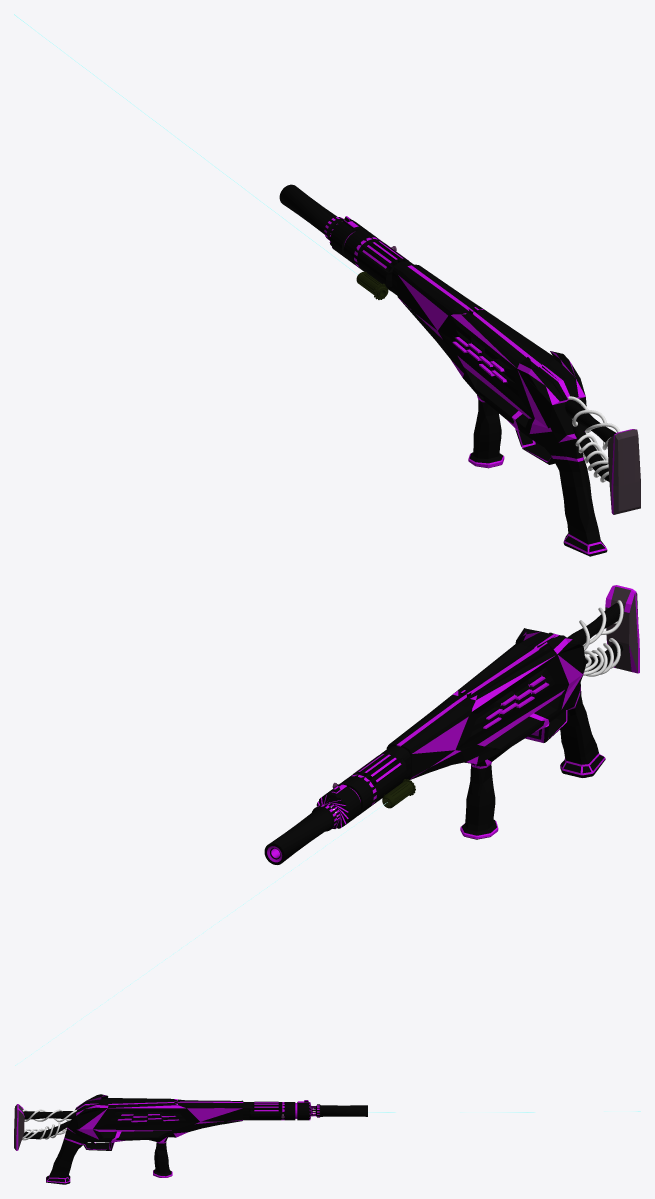
Rendered from PSTD2.fbx.
3 renders of one model, top to bottom at view 1: azimuth 30°, elevation 25°; view 2: azimuth 150°, elevation 25°; view 3: azimuth 270°, elevation 25°, orthographic. The views are drawn at different scales.
Visible parts, largest first — view 1: Куб, Цилиндр, Куб.001; view 2: Куб, Цилиндр, Куб.001, Цилиндр.002; view 3: Куб, Цилиндр, Куб.001, Цилиндр.002, Цилиндр.003.
Part boxes in pixels (<box>): Куб: <box>397,264,607,556</box>; Цилиндр: <box>279,184,413,295</box>; Куб.001: <box>607,429,640,514</box>; Куб: <box>386,628,605,839</box>; Цилиндр: <box>264,746,410,864</box>; Куб.001: <box>605,585,639,673</box>; Цилиндр.002: <box>567,603,619,645</box>; Куб: <box>46,1094,243,1184</box>; Цилиндр: <box>243,1100,367,1120</box>; Куб.001: <box>14,1104,24,1150</box>; Цилиндр.002: <box>23,1111,76,1119</box>; Цилиндр.003: <box>23,1120,70,1139</box>.
Bounding box in the file's own units: 328 × 1000 × 6830.
